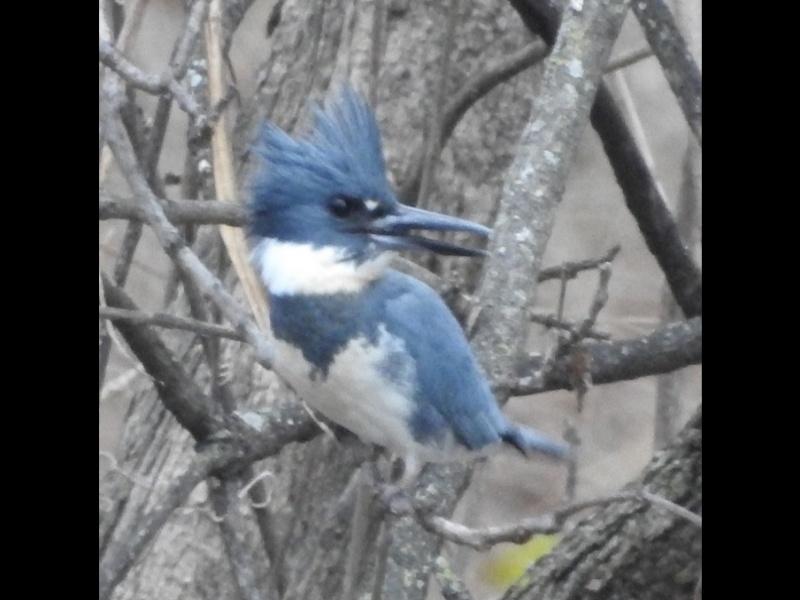kingfisher: (234, 84, 576, 511)
